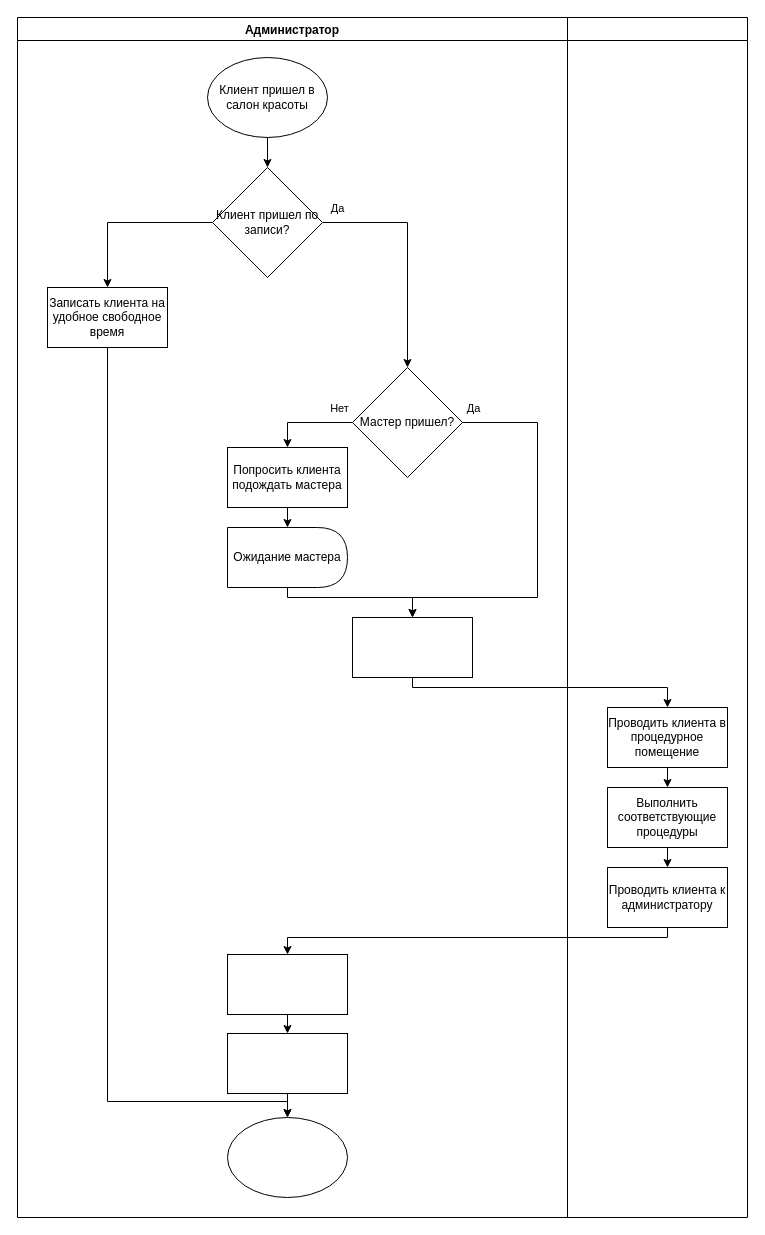
The diagram is 765 pixels wide and 1235 high, and some of its shapes have lost their labels. Here are the shapes that lost their labels. From the top down, the box of each, then its label:
(566, 16, 748, 1218): Мастер
(352, 616, 472, 678): Передать клиента мастеру
(226, 954, 348, 1014): Выставить счет
(226, 1032, 348, 1094): Принять оплату
(226, 1116, 348, 1198): Клиент обслужен
